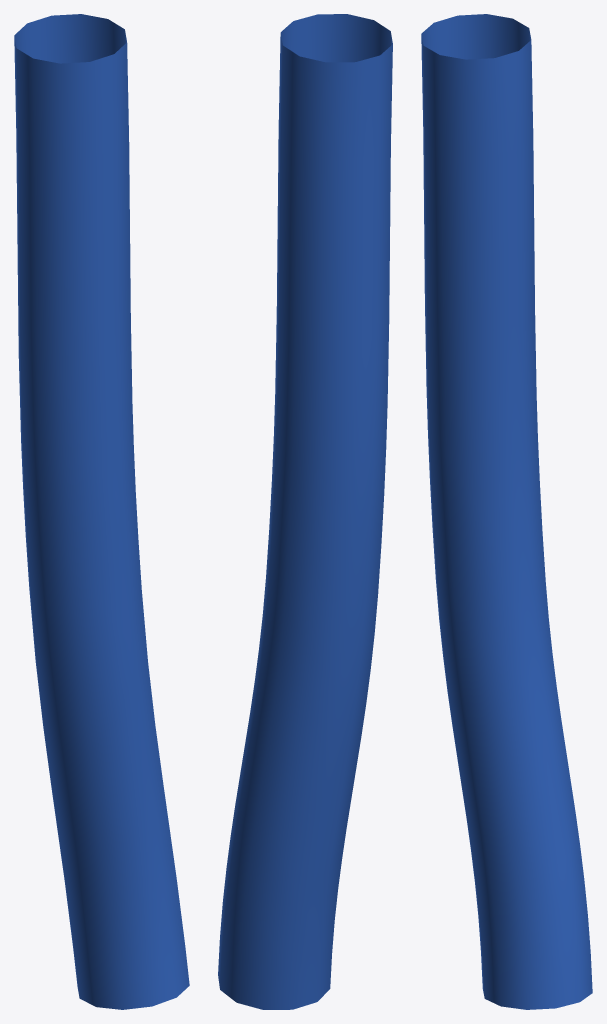
Rendered from circulatorio-hepatic-portal-vein.glb.
3 views of the same model, side by side, from view 1: azimuth 30°, elevation 25°; view 2: azimuth 150°, elevation 25°; view 3: azimuth 330°, elevation 25° (orthographic). The views are drawn at different scales.
Parts seen in each view (by area): view 1: Hepatic portal vein; view 2: Hepatic portal vein; view 3: Hepatic portal vein.
Part boxes in pixels (x1=…): Hepatic portal vein: x1=14, y1=14, x2=189, y2=1009; Hepatic portal vein: x1=218, y1=14, x2=392, y2=1009; Hepatic portal vein: x1=421, y1=14, x2=592, y2=1009.
Size of the model in its own units: 0.00887 by 0.0512 by 0.00565.
